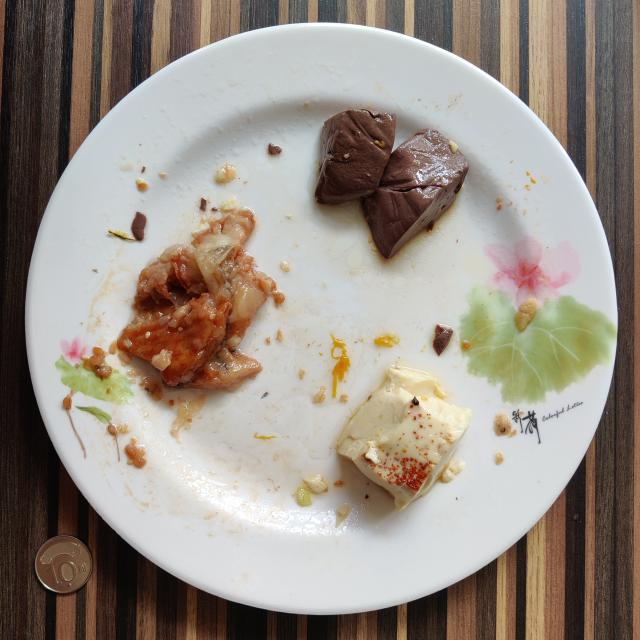Kabayaki sea bream fillet: (118, 209, 284, 389)
coin: (35, 535, 92, 594)
pig blood curd: (315, 109, 469, 259)
